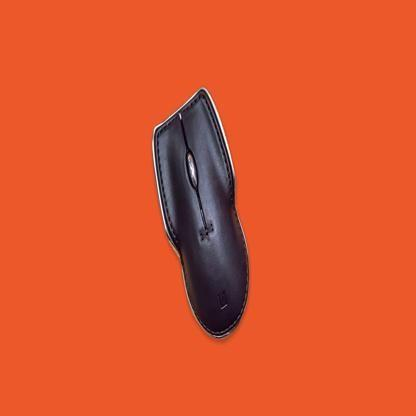not trash: (151, 79, 262, 343)
